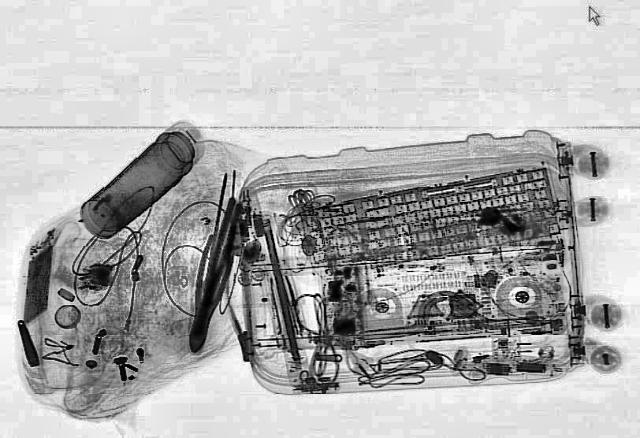Pliers: (177, 202, 247, 352)
